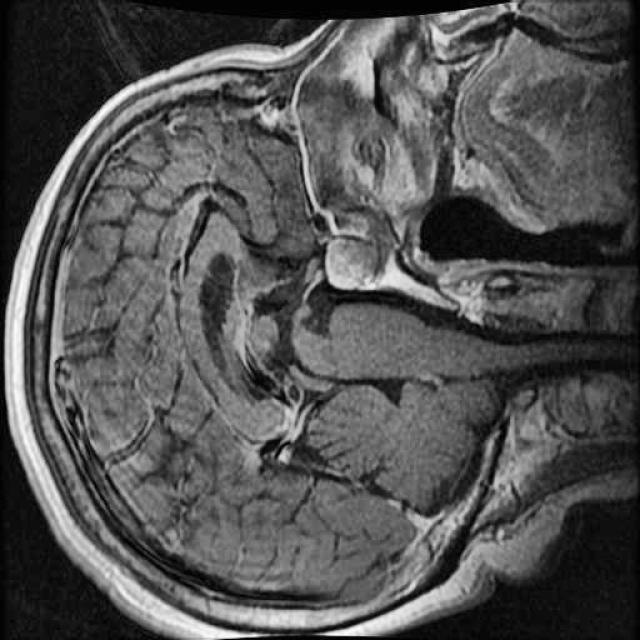Tumor: (318, 214, 379, 301)
